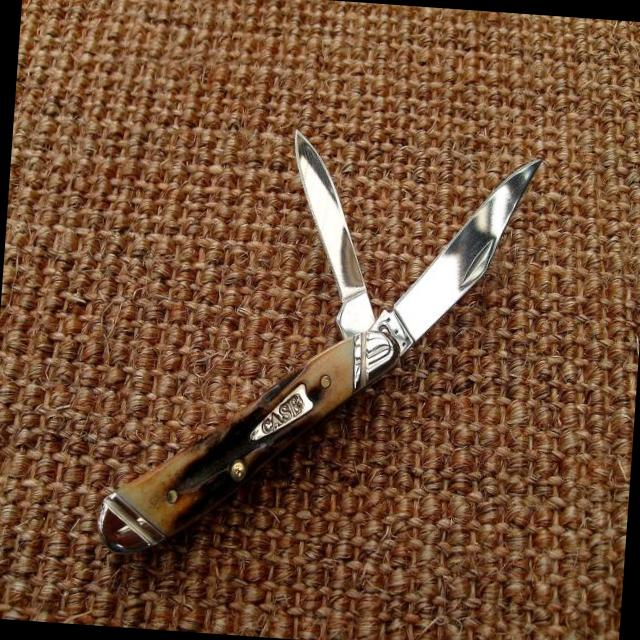Knife: (97, 132, 540, 552)
